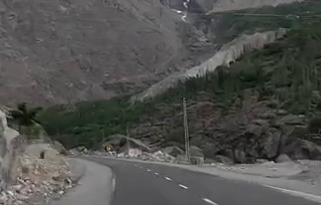right: (82, 142, 251, 188)
